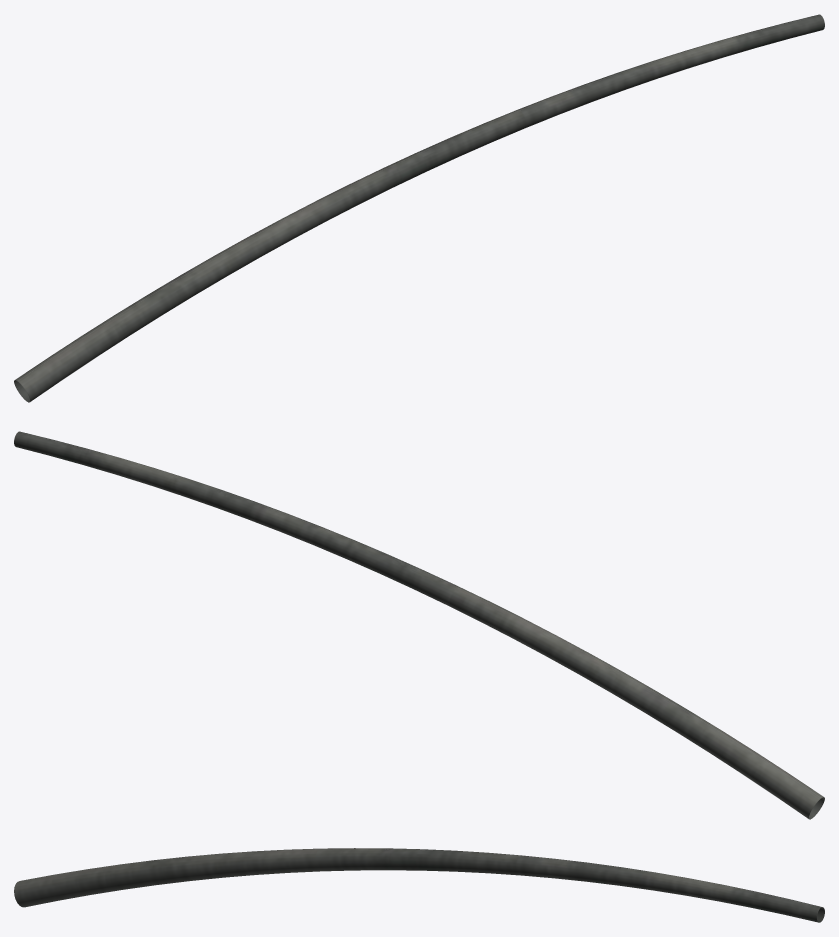
File: armRise1-v1.glb
The picture shows the model from 3 angles, top to bottom: view 1: azimuth 30°, elevation 25°; view 2: azimuth 150°, elevation 25°; view 3: azimuth 330°, elevation 25°; orthographic projection.
Visible parts, largest first — view 1: armRise1-v1; view 2: armRise1-v1; view 3: armRise1-v1.
Boxes of the visible parts, left/top/right/bottom form: armRise1-v1: left=14, top=14, right=824, bottom=402; armRise1-v1: left=14, top=431, right=824, bottom=819; armRise1-v1: left=14, top=848, right=824, bottom=922.
Size of the model in its own units: 6.13 by 1.41 by 0.1778.
Materials: 1 (1 with a texture image).
